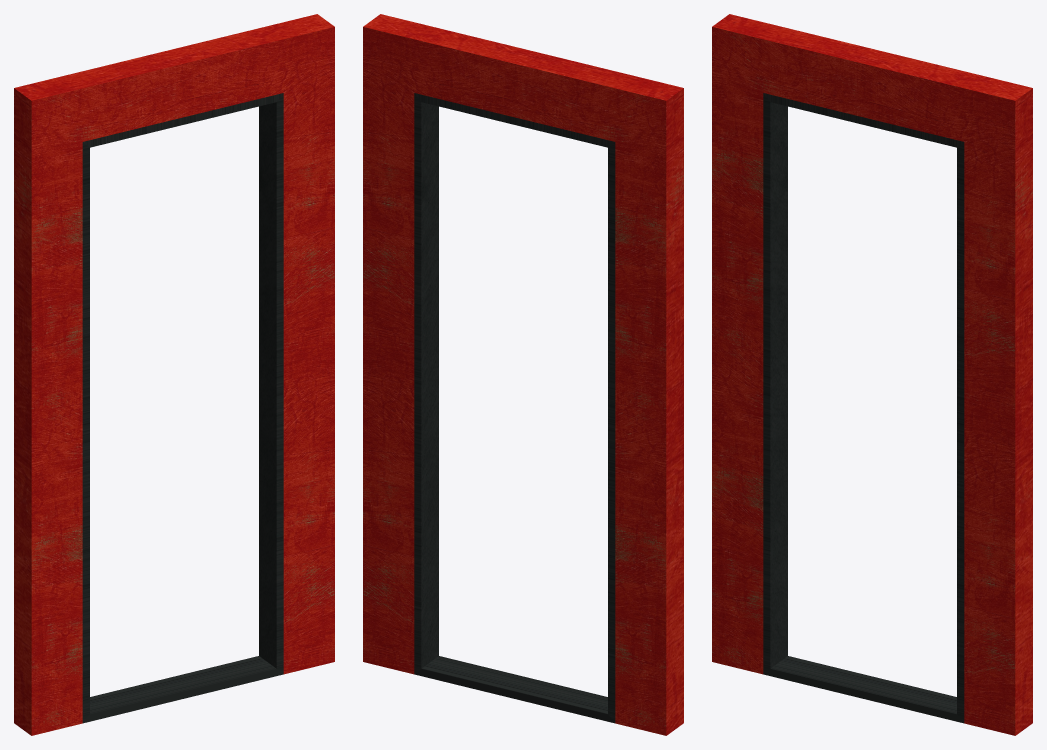
File: ParedPintRojaPuerta.fbx
3 views of the same model, side by side, from view 1: azimuth 30°, elevation 25°; view 2: azimuth 150°, elevation 25°; view 3: azimuth 330°, elevation 25° (orthographic).
Visible parts, largest first — view 1: ParedPintRojaPuerta; view 2: ParedPintRojaPuerta; view 3: ParedPintRojaPuerta.
Boxes of the visible parts, x1,y1,x2,y2 form: ParedPintRojaPuerta: (14, 14, 334, 735); ParedPintRojaPuerta: (363, 14, 683, 735); ParedPintRojaPuerta: (712, 14, 1032, 735).
Bounding box in the file's own units: 200 × 400 × 20.
